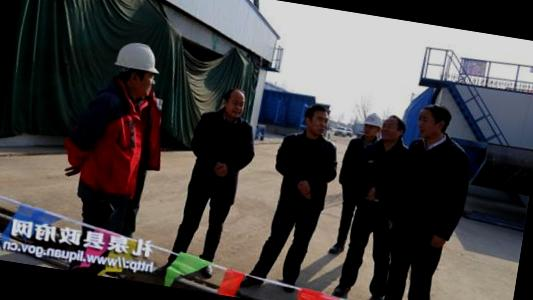no_helmet: (408, 96, 453, 148), (295, 102, 332, 138), (376, 110, 408, 148), (218, 86, 248, 122)
